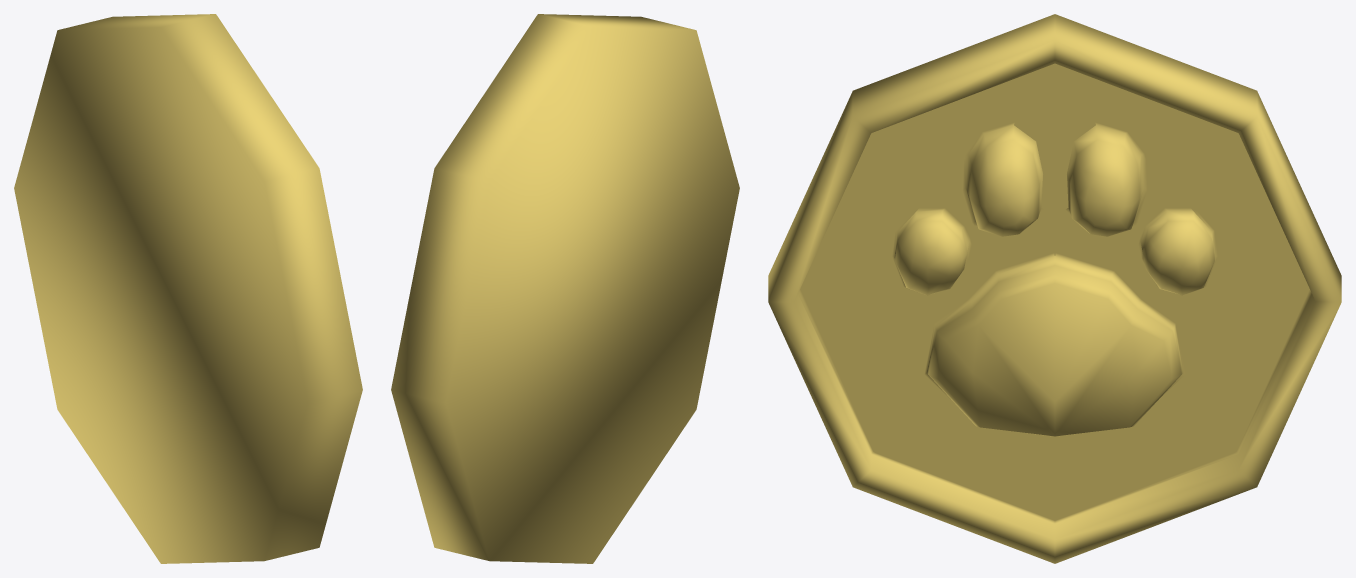
File: Coin.fbx
3 renders of one model, left to right at view 1: azimuth 30°, elevation 25°; view 2: azimuth 150°, elevation 25°; view 3: azimuth 270°, elevation 25°, orthographic. The views are drawn at different scales.
Visible parts, largest first — view 1: Cylinder; view 2: Cylinder; view 3: Cylinder.
Part boxes in pixels (x1,y1,x2,y2): Cylinder: (14,14,362,563); Cylinder: (391,14,739,563); Cylinder: (768,14,1341,563).
Size of the model in its own units: 33.04 by 220 by 218.
